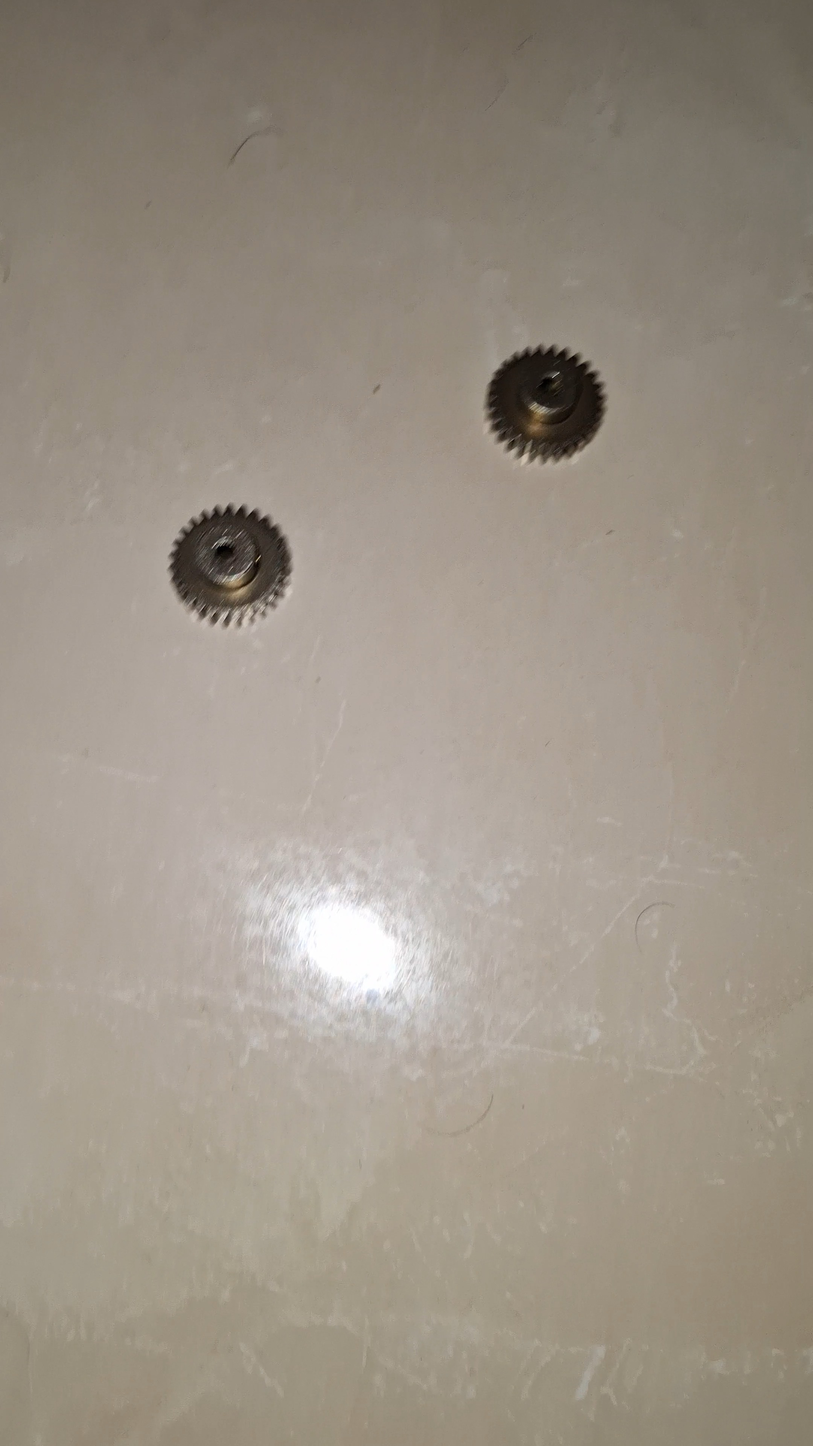spur gear: (172, 502, 292, 620), (483, 345, 600, 456)
